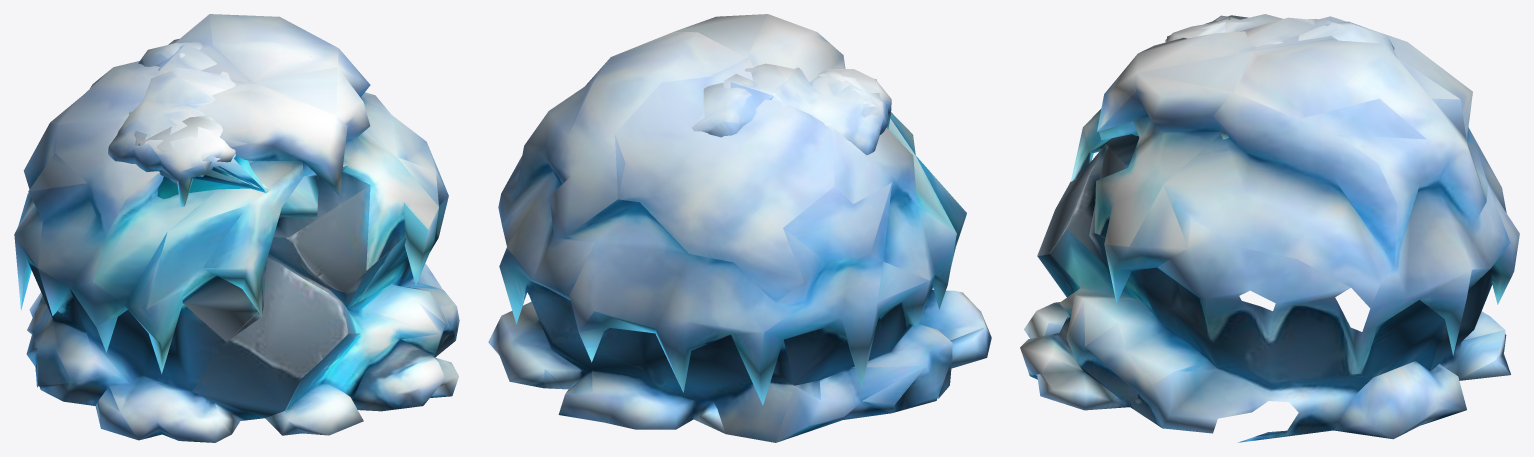
File: gelo-obstaculos.glb
The picture shows the model from 3 angles, left to right: view 1: azimuth 30°, elevation 25°; view 2: azimuth 150°, elevation 25°; view 3: azimuth 270°, elevation 25°; orthographic projection. The views are drawn at different scales.
Visible parts, largest first — view 1: rocha, bloco2, bloco2-lod; view 2: rocha, bloco2, bloco2-lod; view 3: rocha, bloco2, bloco2-lod.
Part boxes in pixels (x1,y1,x2,y2): rocha: (14, 14, 459, 442); bloco2: (108, 42, 280, 217); bloco2-lod: (129, 44, 271, 199); rocha: (488, 14, 991, 442); bloco2: (691, 63, 891, 155); bloco2-lod: (723, 70, 882, 126); rocha: (1020, 16, 1519, 442); bloco2: (1132, 14, 1397, 139); bloco2-lod: (1167, 15, 1346, 40).
Bounding box in the file's own units: 2.9 × 2.1 × 3.03.
1 material, 1 textured.
